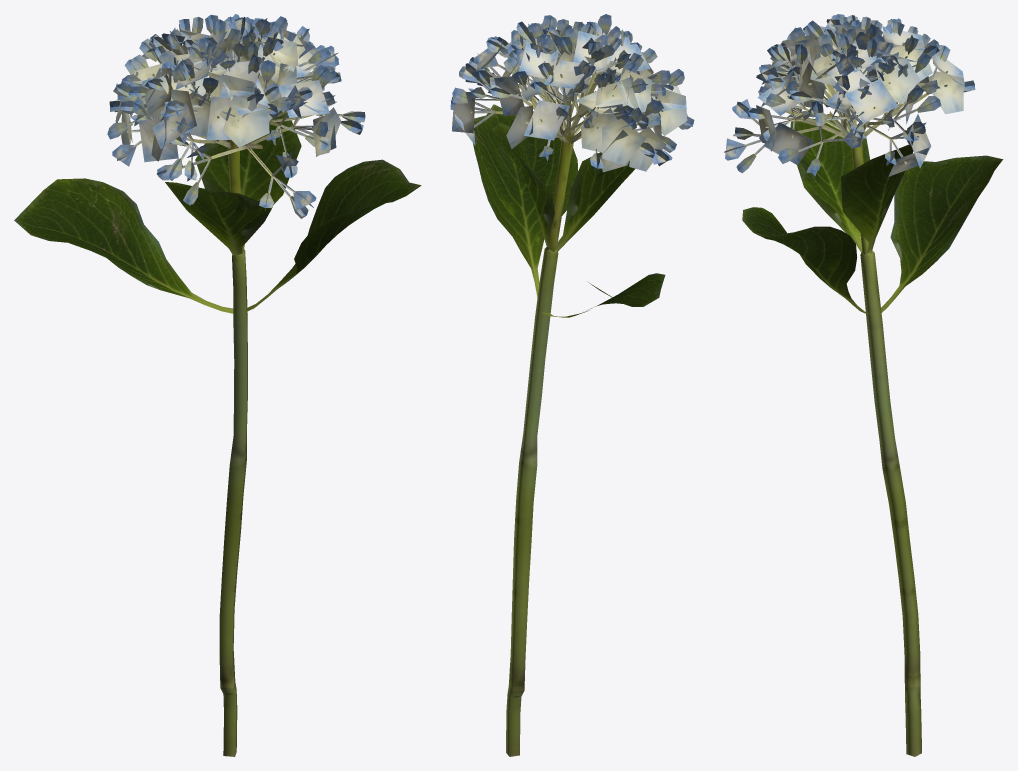
File: Hydrangea_baby_short_deepblue.glb
3 views of the same model, side by side, from view 1: azimuth 30°, elevation 25°; view 2: azimuth 150°, elevation 25°; view 3: azimuth 270°, elevation 25° (orthographic). The views are drawn at different scales.
Parts seen in each view (by area): view 1: BABY; view 2: BABY; view 3: BABY.
Part boxes in pixels (x1,y1,x2,y2): BABY: [14, 14, 421, 756]; BABY: [450, 14, 694, 756]; BABY: [724, 14, 1003, 756].
Size of the model in its own units: 0.7928 by 2.03 by 0.7195.
1 material, 1 textured.
